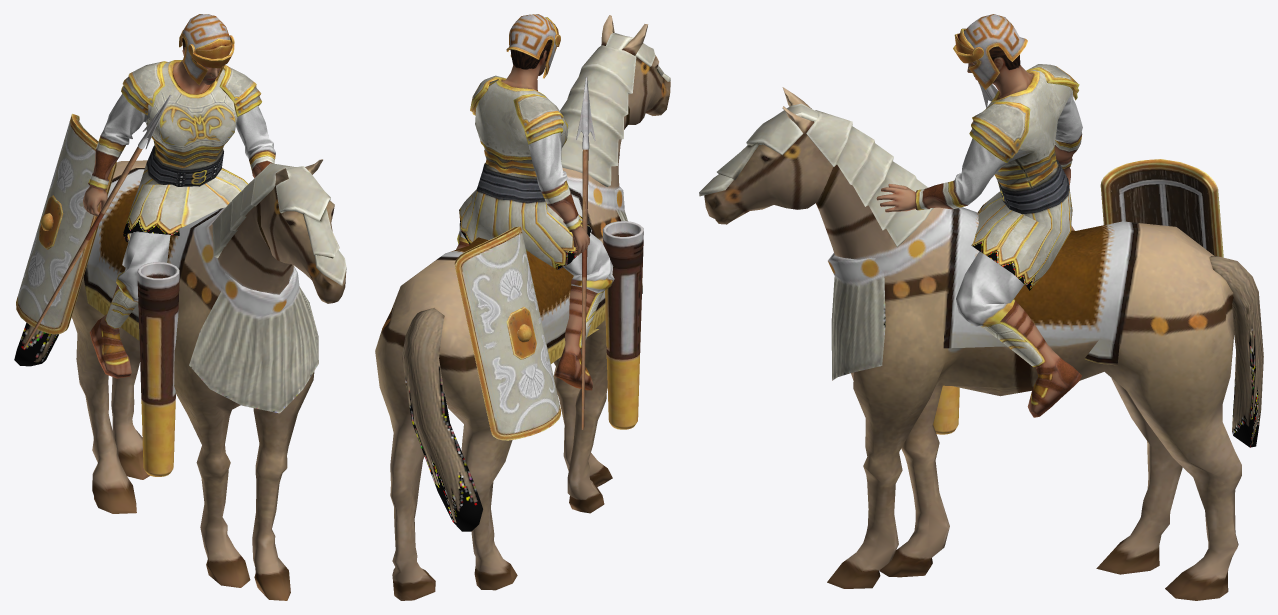
Rendered from 112-turmahero.glb.
3 renders of one model, left to right at view 1: azimuth 30°, elevation 25°; view 2: azimuth 150°, elevation 25°; view 3: azimuth 270°, elevation 25°, orthographic. The views are drawn at different scales.
Bounding box in the file's own units: 1.13 × 2.93 × 2.65.
6 materials, 6 textured.
